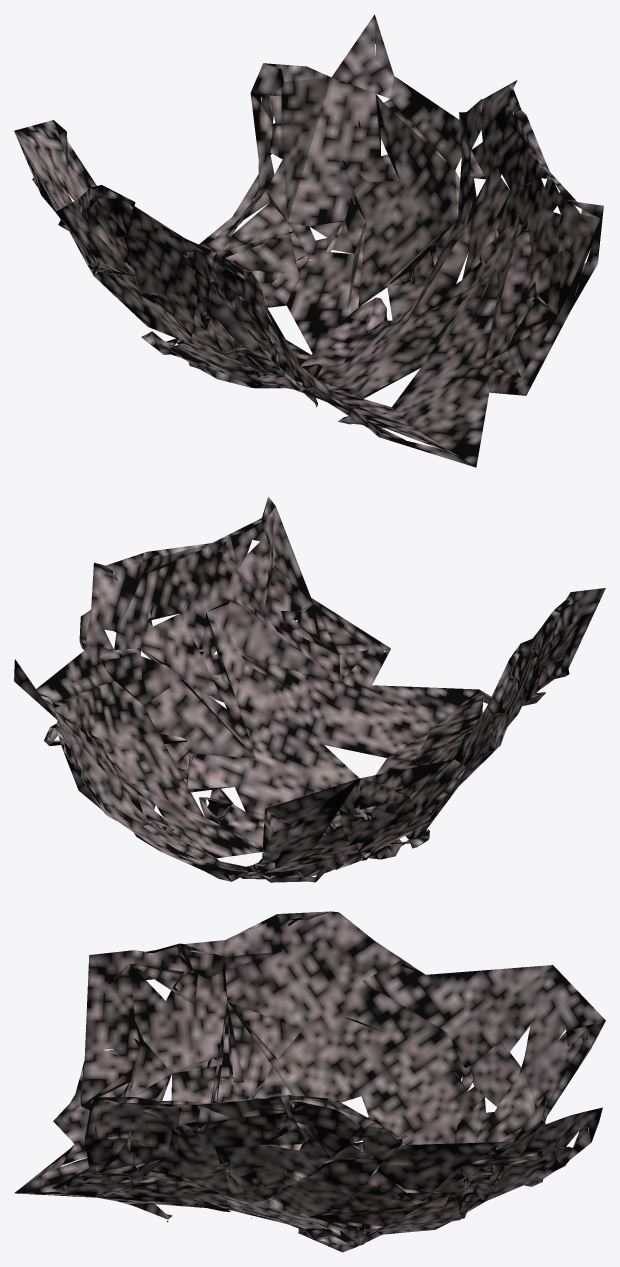
Rendered from vampire_chestplate_LOD3.glb.
3 views of the same model, one above another, from view 1: azimuth 30°, elevation 25°; view 2: azimuth 150°, elevation 25°; view 3: azimuth 270°, elevation 25° (orthographic). The views are drawn at different scales.
Visible parts, largest first — view 1: vampire_chestplate_LOD3; view 2: vampire_chestplate_LOD3; view 3: vampire_chestplate_LOD3.
Part boxes in pixels (x1,y1,x2,y2): vampire_chestplate_LOD3: (14,14,603,467); vampire_chestplate_LOD3: (14,497,605,882); vampire_chestplate_LOD3: (14,911,605,1252).
Size of the model in its own units: 0.5776 by 0.3214 by 0.7504.
1 material, 1 textured.
